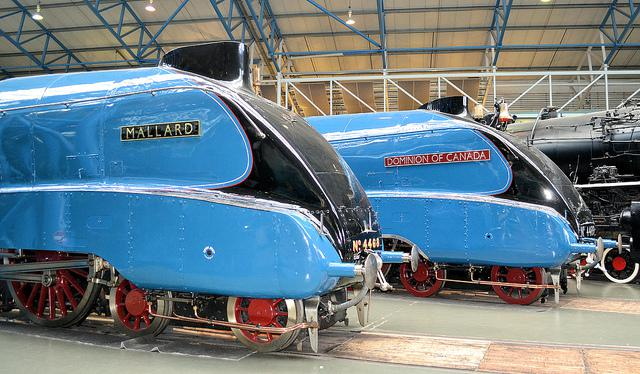Train: (2, 39, 389, 355), (304, 109, 624, 306), (425, 97, 640, 285)
